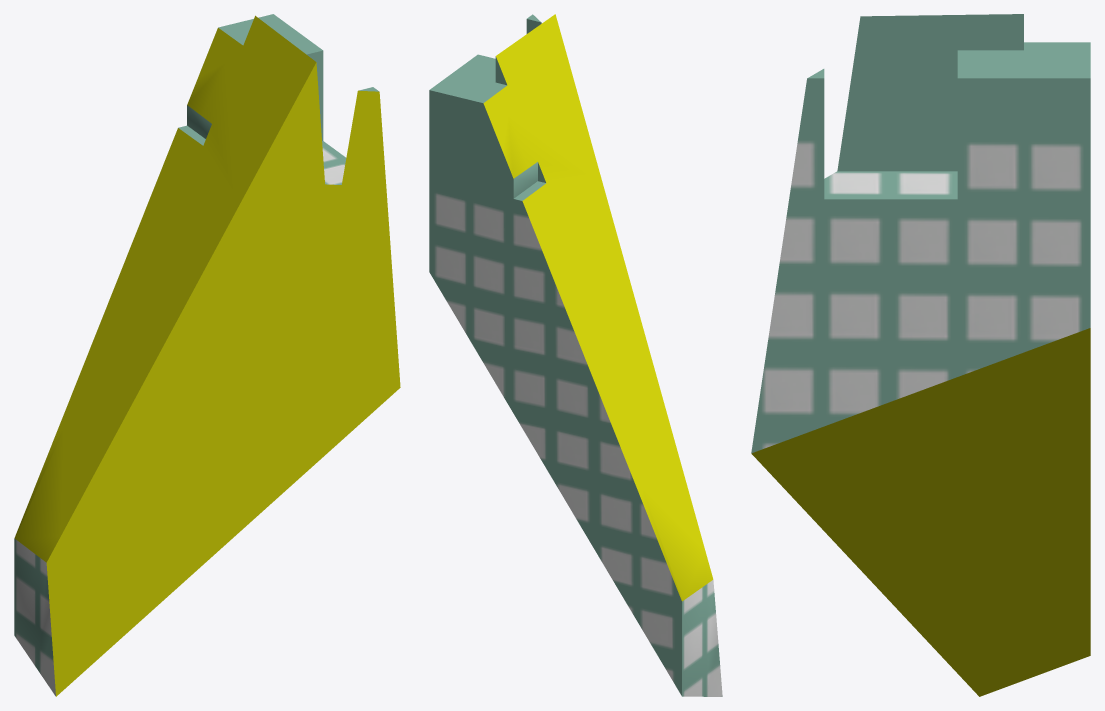
File: esShard3.fbx
3 views of the same model, side by side, from view 1: azimuth 30°, elevation 25°; view 2: azimuth 150°, elevation 25°; view 3: azimuth 270°, elevation 25° (orthographic). The views are drawn at different scales.
Visible parts, largest first — view 1: shard66; view 2: shard66; view 3: shard66.
Part boxes in pixels (x1,y1,x2,y2): shard66: (14,14,400,696); shard66: (429,14,722,696); shard66: (751,14,1090,696).
Size of the model in its own units: 0.0971 by 0.2209 by 0.0825.
Materials: 2 (1 with a texture image).
